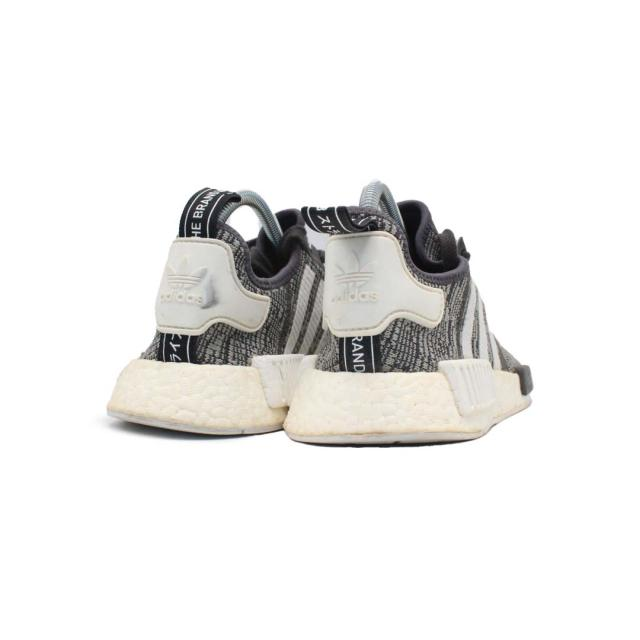heel: (299, 206, 461, 376), (145, 189, 300, 364)
midsole: (285, 354, 529, 448), (106, 354, 302, 436)
uppersole: (450, 243, 529, 376)
